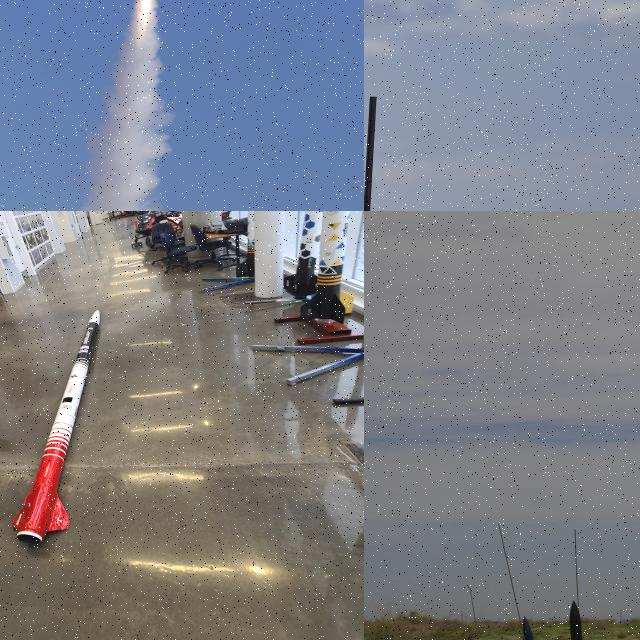Rocket: (11, 310, 100, 544), (562, 600, 600, 640), (520, 616, 556, 640)
